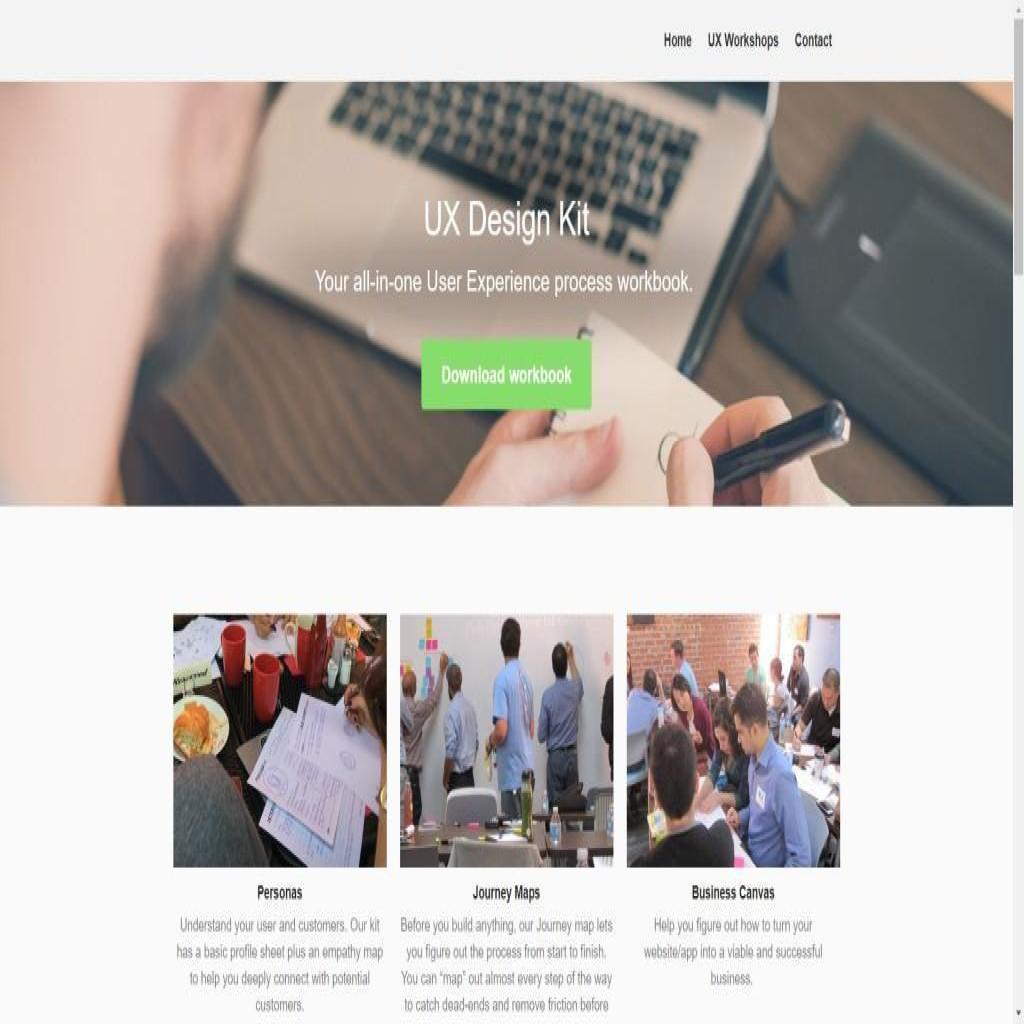button: (422, 341, 594, 409)
label: (422, 194, 594, 242), (690, 878, 777, 907), (708, 30, 779, 50), (472, 884, 540, 903), (257, 883, 305, 905), (794, 32, 834, 52), (663, 32, 692, 50)
